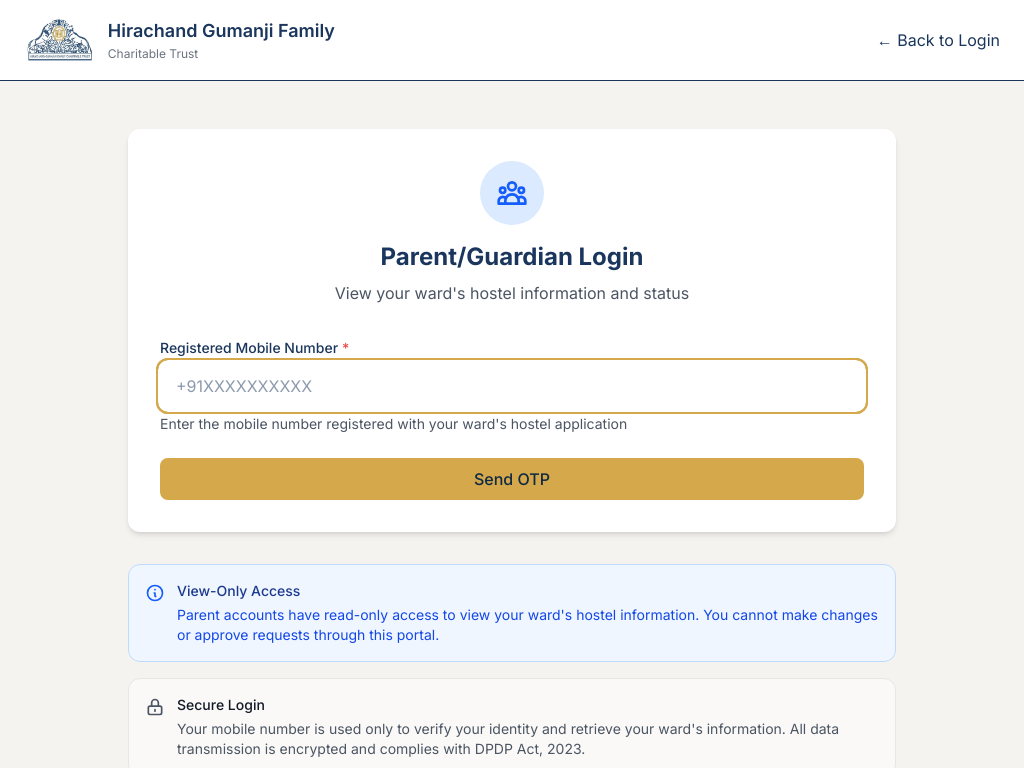
Test case: Task 8 - Parent/Guardian View-only Login › Entry Flow and OTP Verification › handles failed OTP send
The width and height of the screenshot is (1024, 768).
Step 1. Type "9876543210" into the field labelled "Registered Mobile Number*" → point(512, 386), box [160,362,864,410]
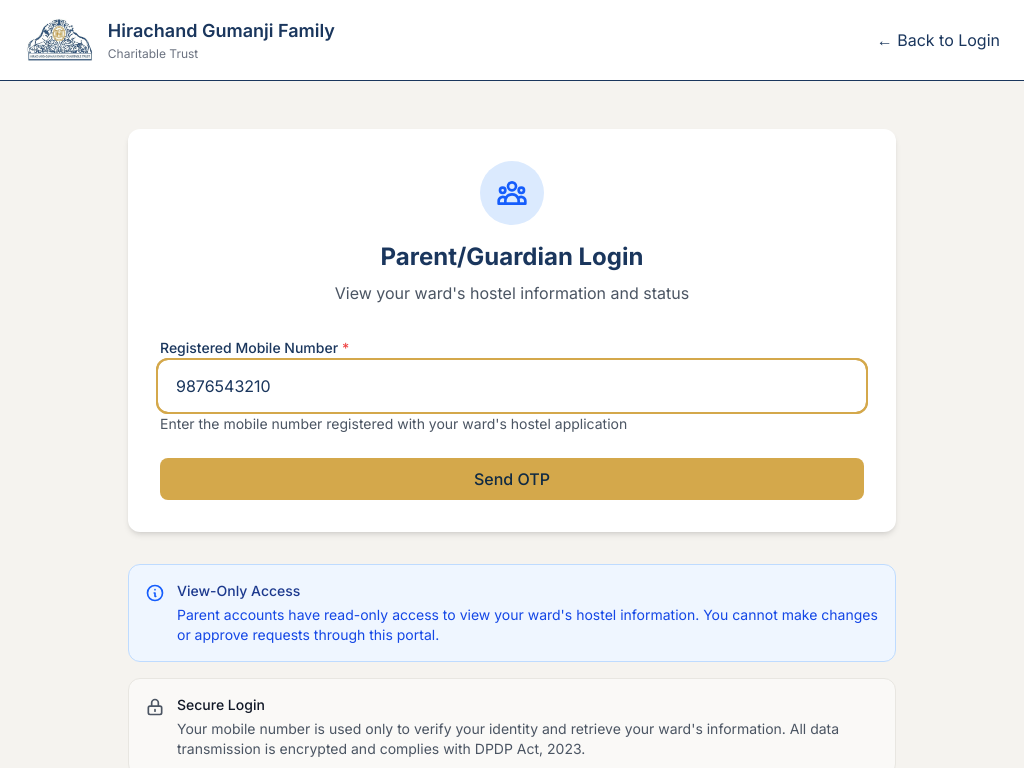
Step 2. Click the button "Send OTP" → point(512, 479), box [160,458,864,500]
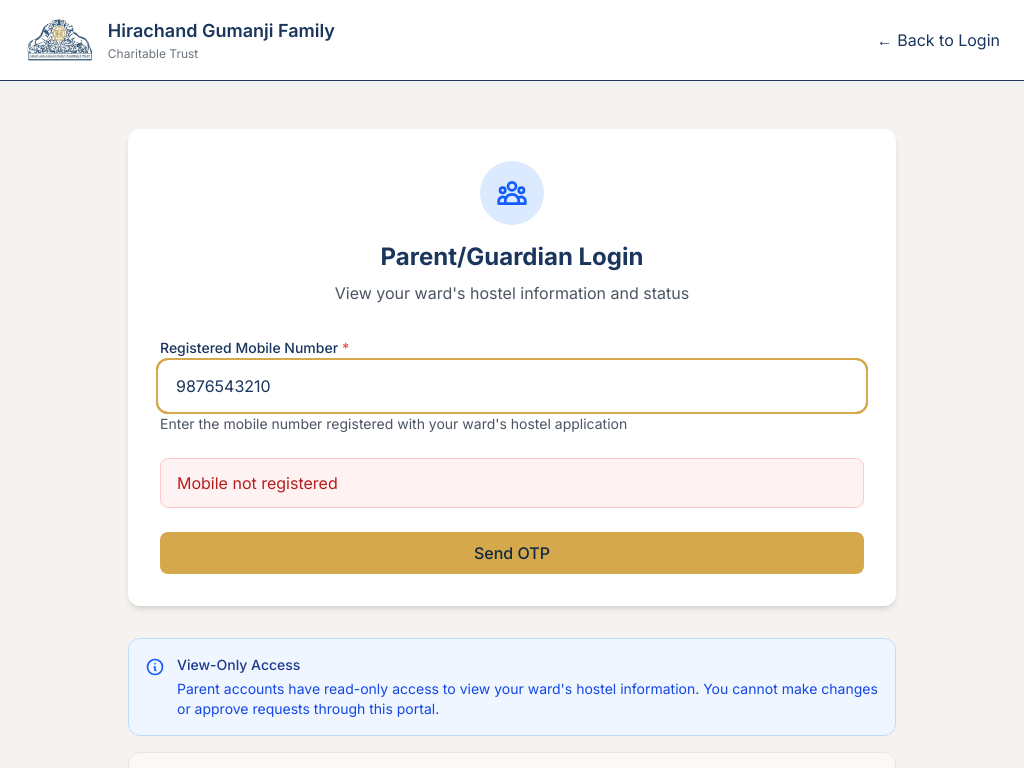
expect the text "Mobile not registered" is shown: met, box [160,458,864,508]
